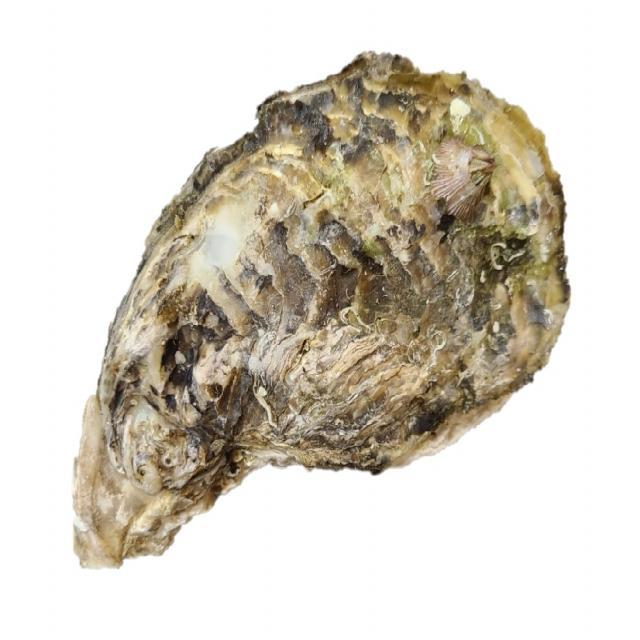Oyster- Indeterminate: (61, 46, 577, 580)
